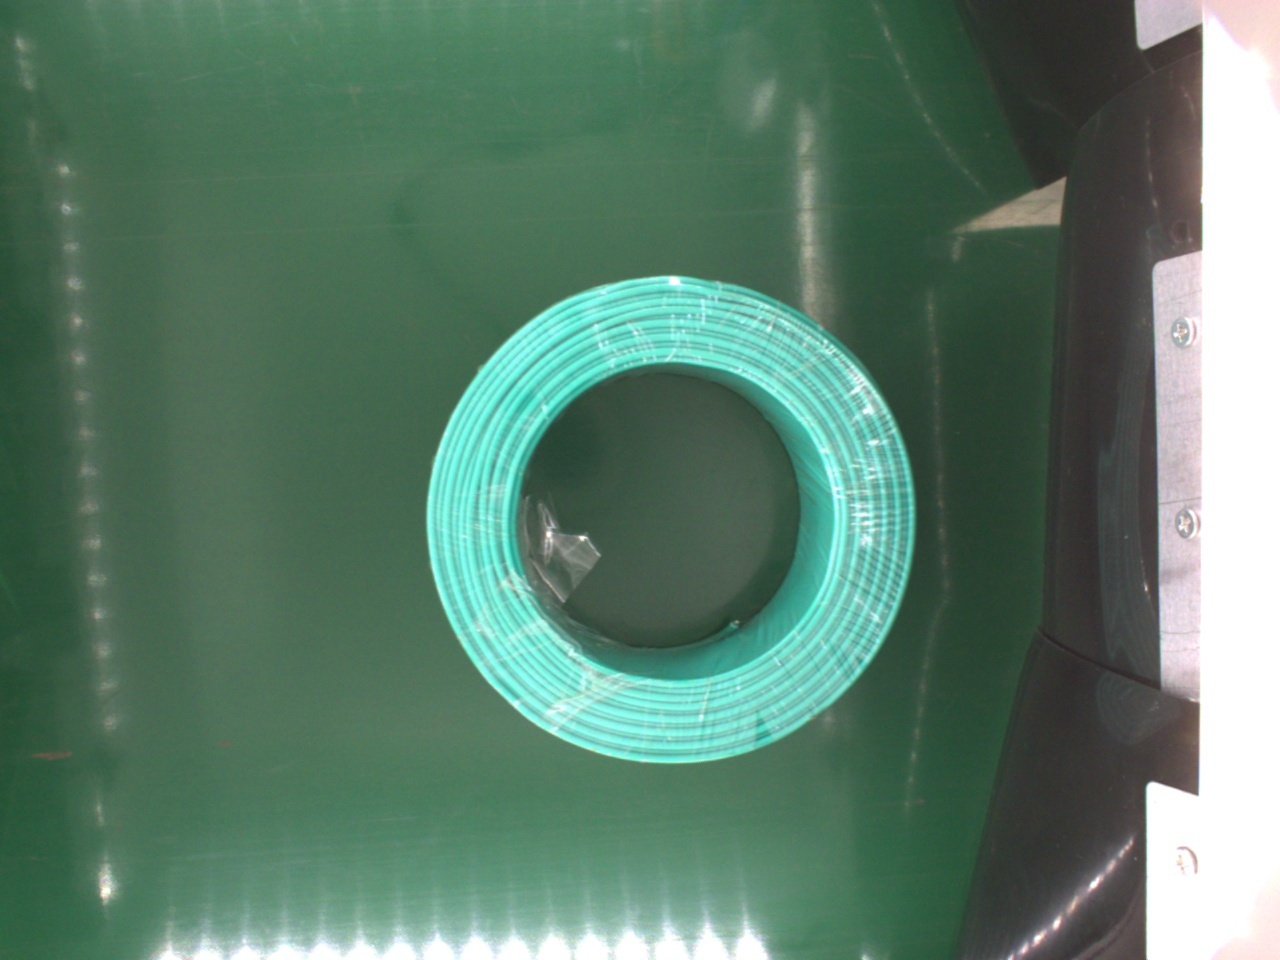green: (420, 275, 920, 767)
